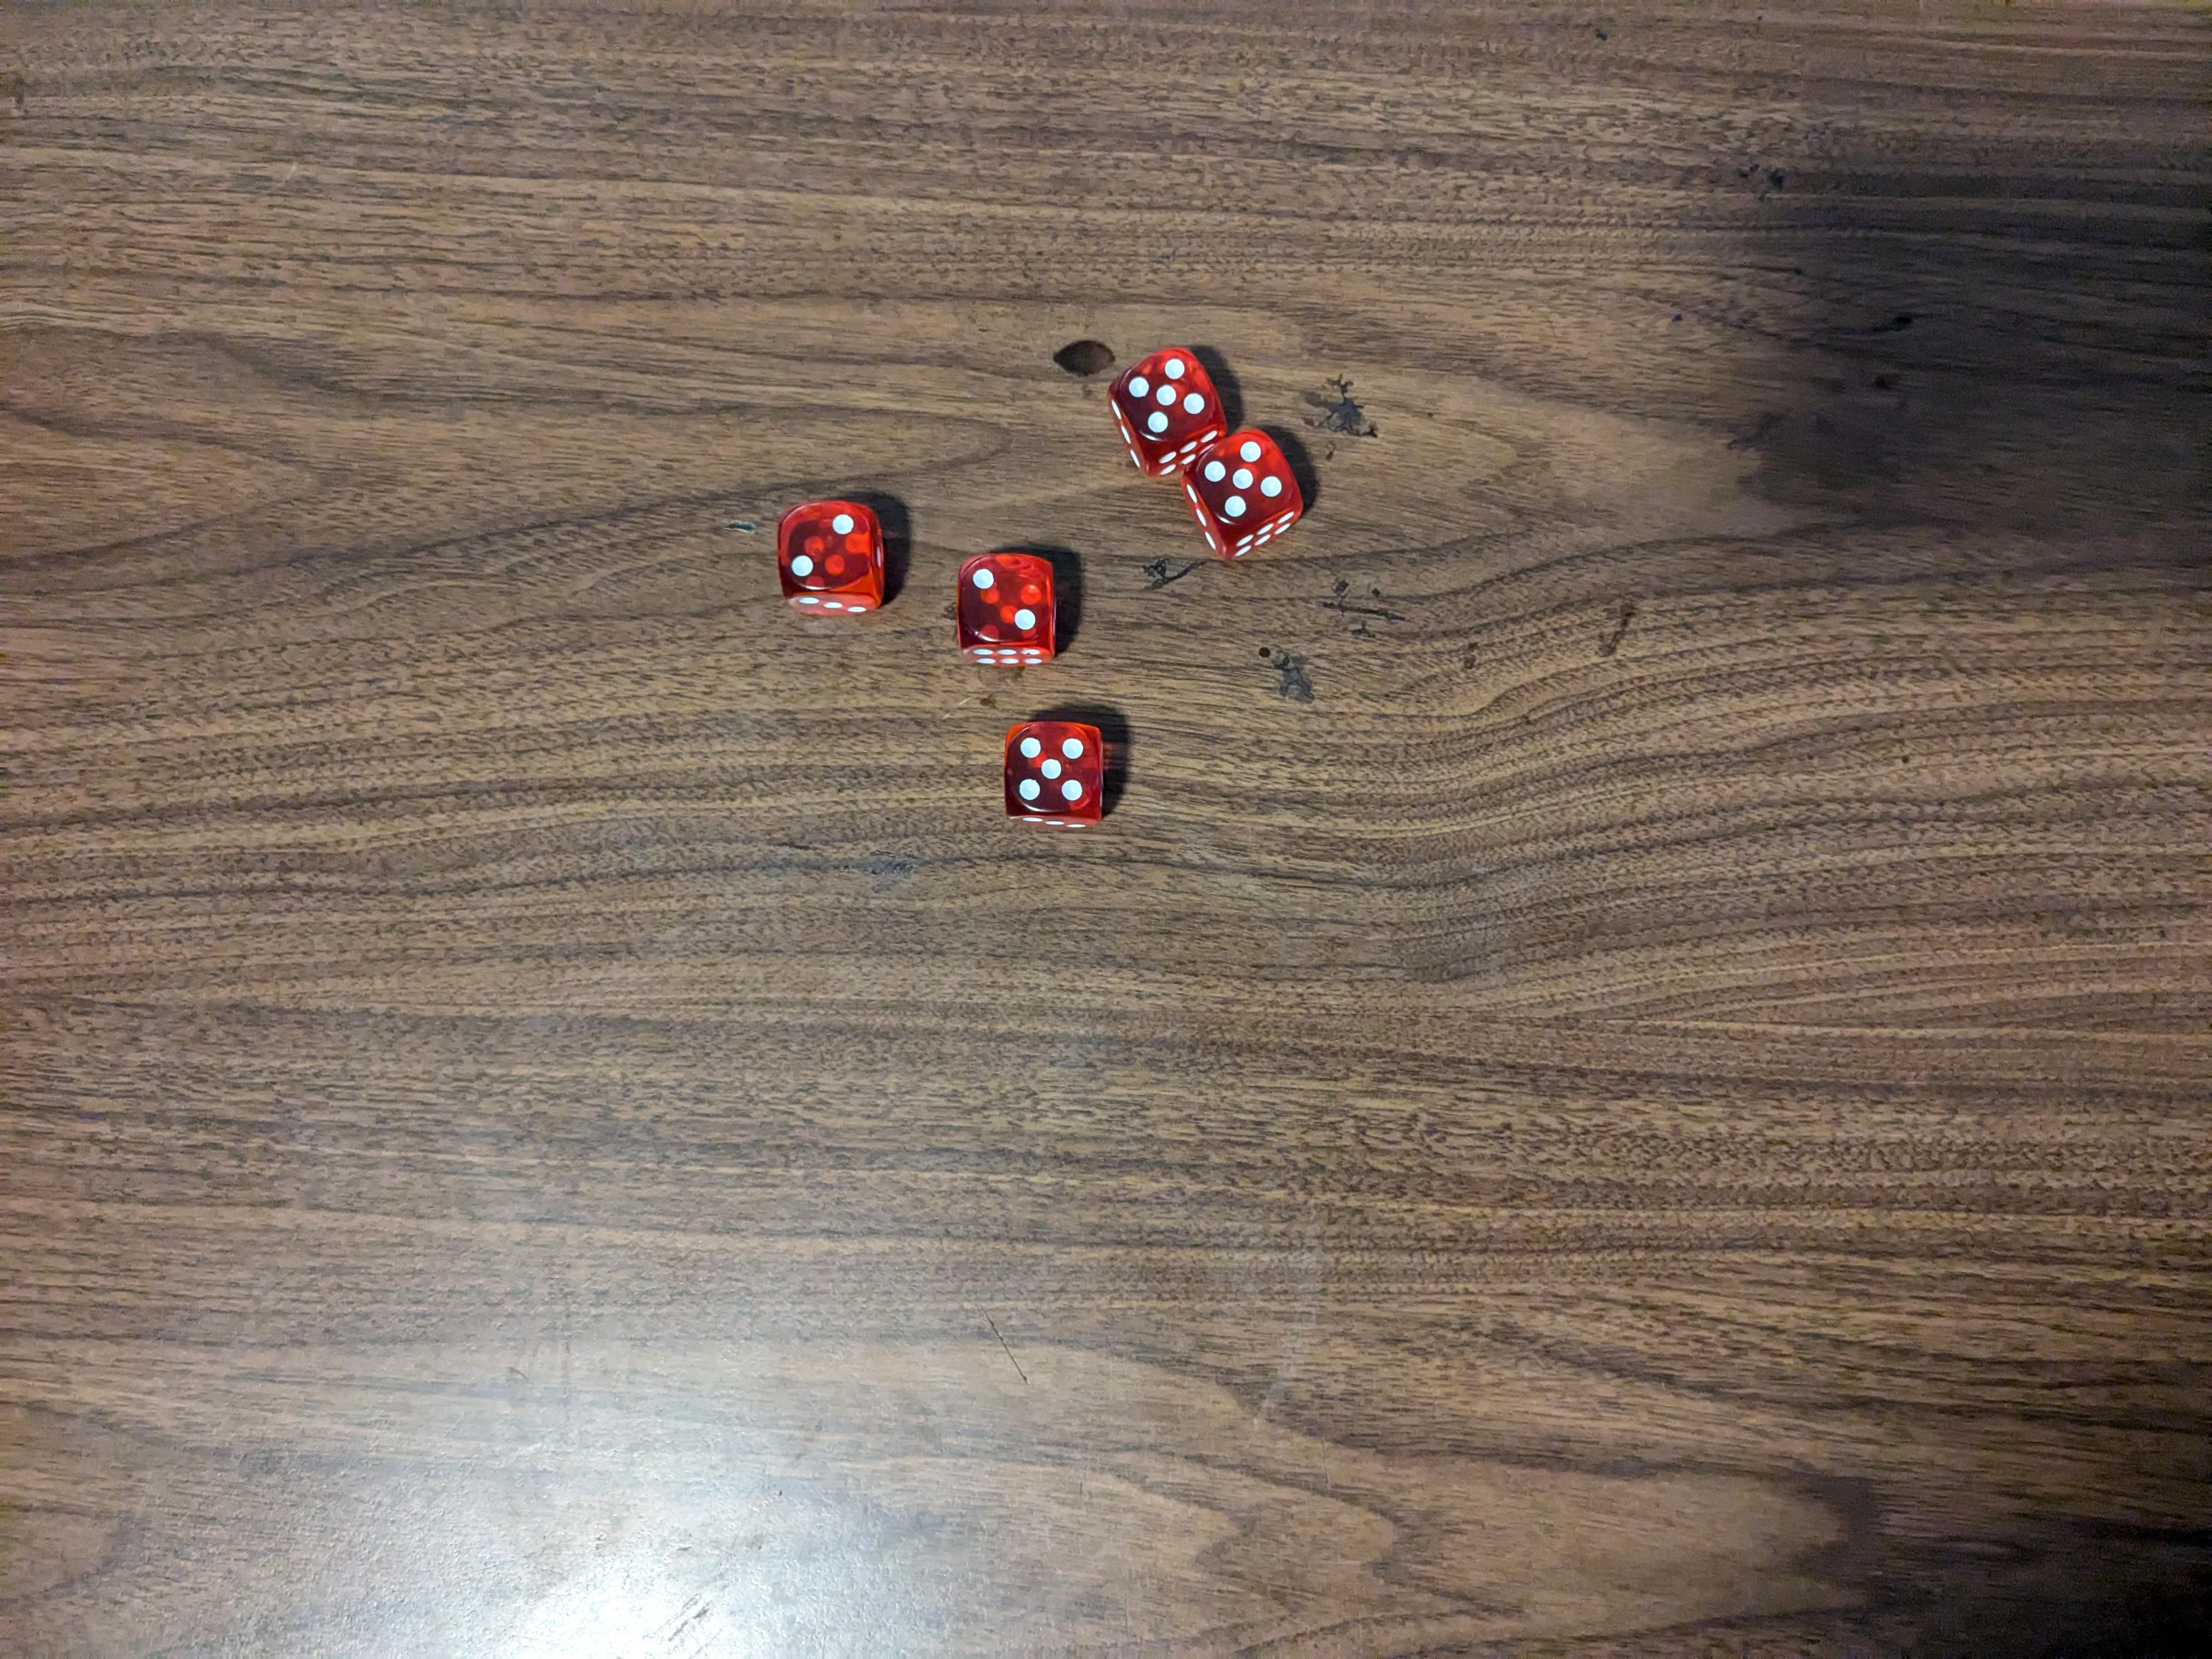five: (1183, 425, 1308, 566), (1106, 340, 1226, 483), (1003, 718, 1113, 836)
two: (770, 497, 890, 622), (953, 547, 1061, 673)
